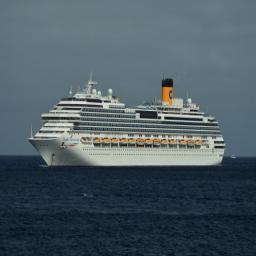cruises: (28, 71, 228, 170)
